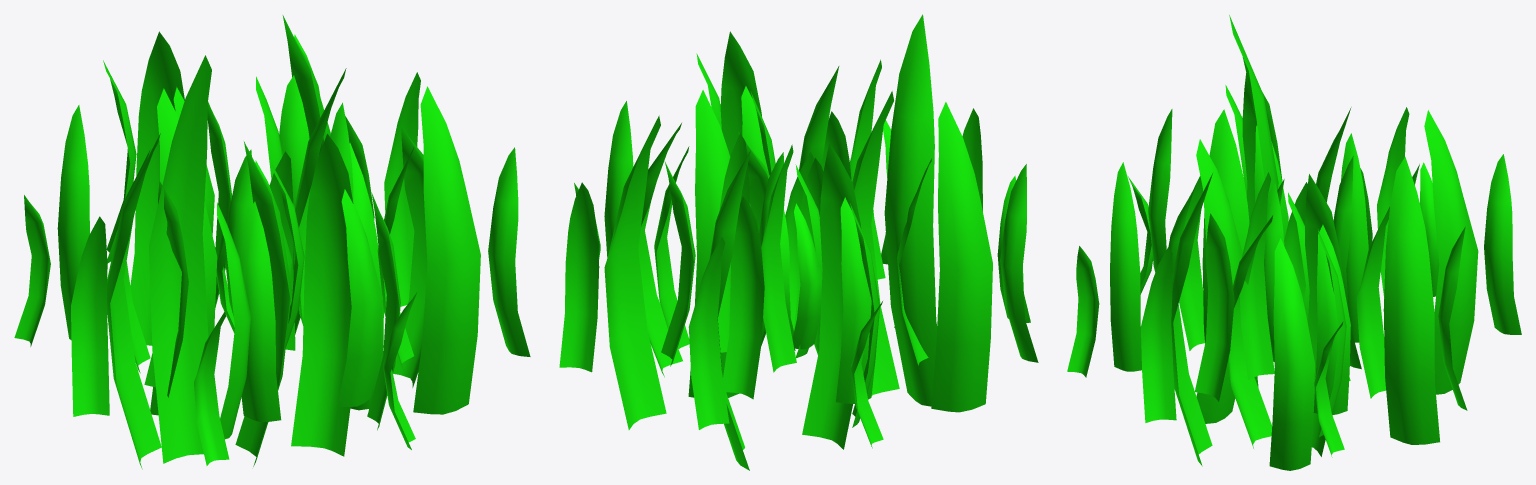
The model's file is grass.fbx.
3 views of the same model, side by side, from view 1: azimuth 30°, elevation 25°; view 2: azimuth 150°, elevation 25°; view 3: azimuth 270°, elevation 25° (orthographic). The views are drawn at different scales.
Parts seen in each view (by area): view 1: Object060, Object032, Object057, Object063, Object052, Object046, Object062, Object056, Object033, Object035, Object047, Object027 (+24 smaller); view 2: Object060, Object062, Object042, Object037, Object051, Object043, Object053, Object067, Object036, Object050, Object047, Object063 (+24 smaller); view 3: Object042, Object027, Object052, Object055, Object033, Object053, Object031, Object030, Object032, Object066, Object041, Object057 (+23 smaller).
Boxes of the visible parts, x1,y1,x2,y2 form: Object060: [149, 55, 211, 463]; Object032: [413, 86, 480, 414]; Object057: [291, 133, 353, 456]; Object063: [71, 216, 109, 416]; Object052: [130, 31, 184, 345]; Object046: [240, 201, 281, 421]; Object062: [107, 133, 161, 469]; Object056: [337, 189, 382, 406]; Object033: [488, 147, 530, 356]; Object035: [57, 105, 89, 340]; Object047: [235, 141, 291, 466]; Object027: [393, 126, 427, 387]; Object060: [884, 14, 937, 406]; Object062: [931, 102, 992, 412]; Object042: [604, 115, 666, 429]; Object037: [802, 143, 861, 449]; Object051: [723, 196, 764, 399]; Object043: [559, 182, 599, 372]; Object053: [688, 237, 729, 429]; Object067: [688, 90, 738, 397]; Object036: [836, 197, 876, 403]; Object050: [761, 144, 796, 372]; Object047: [852, 91, 899, 395]; Object063: [1000, 164, 1038, 362]; Object042: [1383, 157, 1439, 444]; Object027: [1269, 238, 1314, 470]; Object052: [1424, 110, 1478, 394]; Object055: [1110, 162, 1141, 371]; Object033: [1141, 247, 1176, 422]; Object053: [1484, 154, 1521, 334]; Object031: [1195, 213, 1234, 401]; Object030: [1239, 172, 1274, 380]; Object032: [1171, 173, 1212, 466]; Object066: [1313, 224, 1350, 415]; Object041: [1356, 206, 1389, 398]; Object057: [1196, 139, 1242, 423].
Size of the model in its own units: 4.74 by 4.23 by 4.82.
